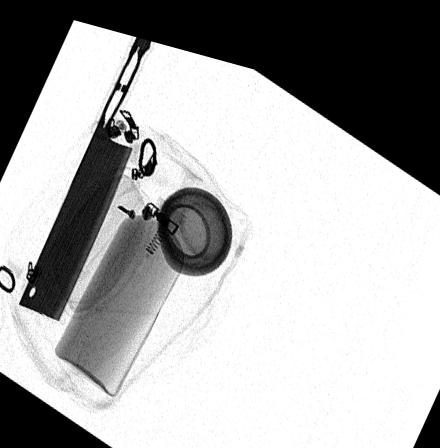Knife: (16, 28, 154, 319)
